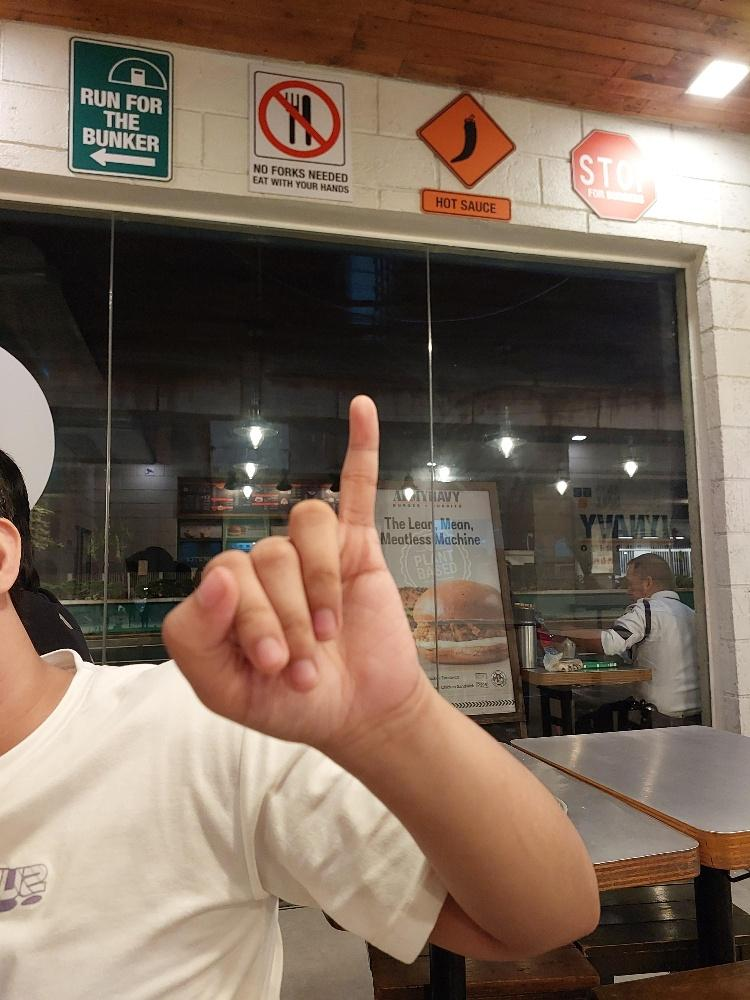i: (158, 391, 418, 743)
